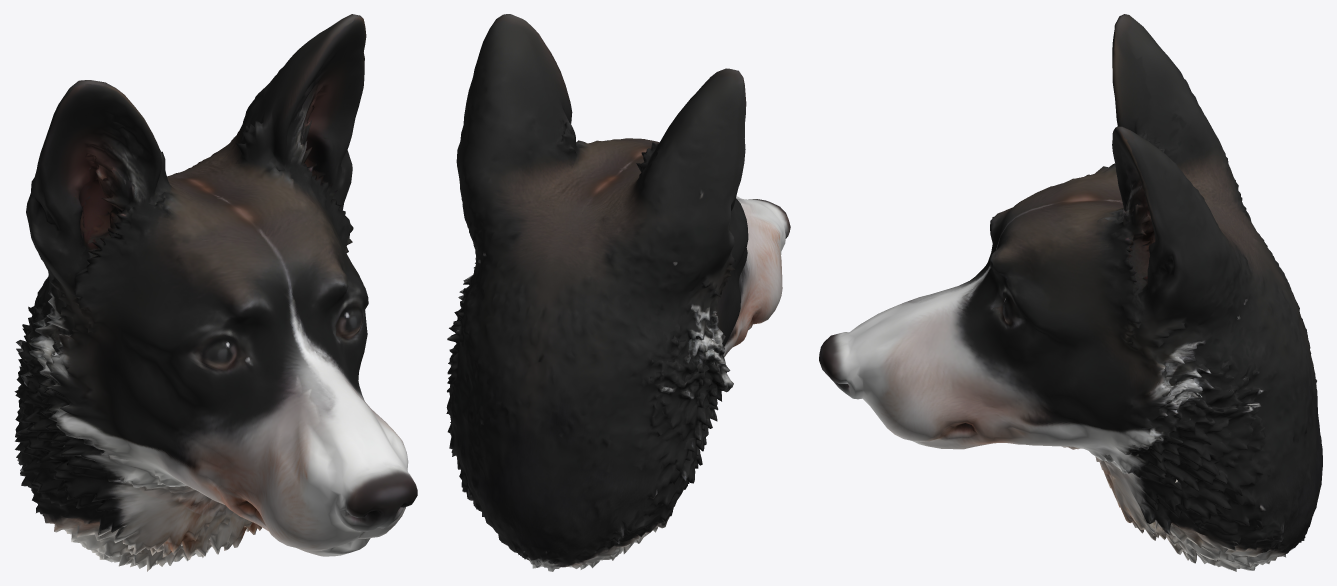
The model's file is 019a67b2-fce9-74e0-8ee6-a4db2dc114dd.glb.
The picture shows the model from 3 angles, left to right: view 1: azimuth 30°, elevation 25°; view 2: azimuth 150°, elevation 25°; view 3: azimuth 270°, elevation 25°; orthographic projection. The views are drawn at different scales.
Size of the model in its own units: 1.16 by 1.91 by 1.8.
1 material, 1 textured.
